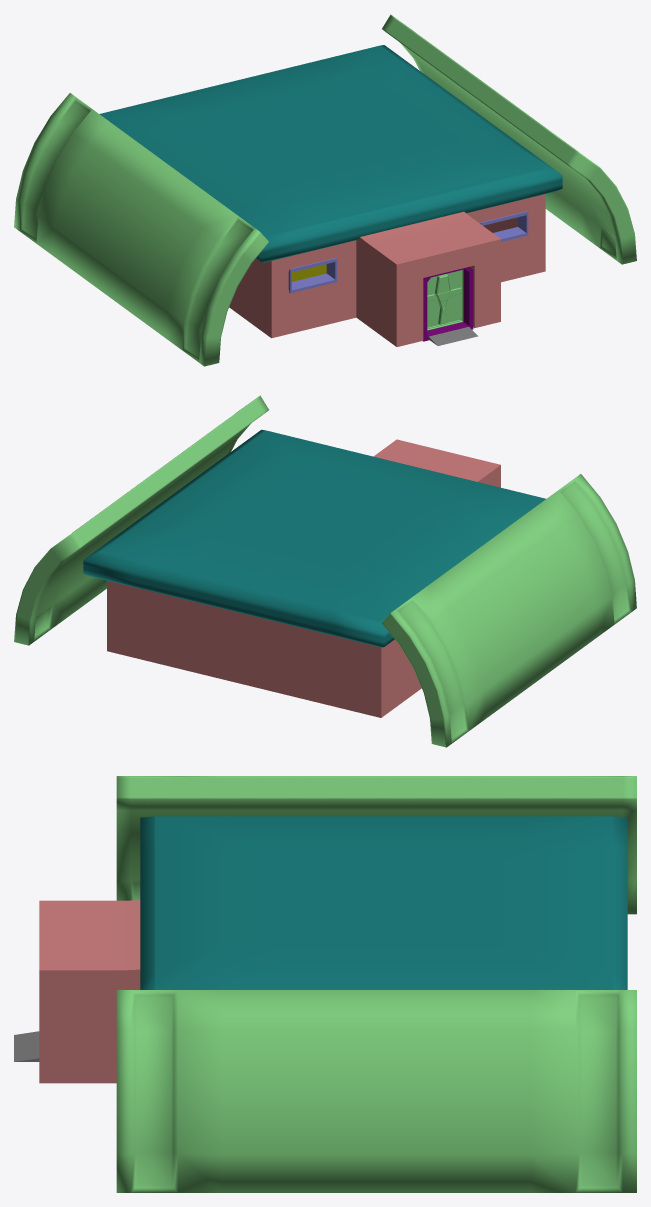
Rendered from sci-fi building 1.fbx.
The picture shows the model from 3 angles, top to bottom: view 1: azimuth 30°, elevation 25°; view 2: azimuth 150°, elevation 25°; view 3: azimuth 270°, elevation 25°; orthographic projection. The views are drawn at different scales.
Parts seen in each view (by area): view 1: roof, sides, walls, door, Frame, Doorway, ramp; view 2: roof, sides, walls; view 3: sides, roof, walls, ramp.
Part boxes in pixels (box(x1,y1,x2,y2)): roof: box(99, 45, 562, 262); sides: box(14, 14, 636, 366); walls: box(229, 194, 545, 346); door: box(427, 270, 463, 330); Frame: box(288, 211, 528, 293); Doorway: box(423, 266, 473, 341); ramp: box(428, 327, 477, 345); roof: box(83, 429, 545, 647); sides: box(14, 395, 636, 747); walls: box(107, 439, 500, 717); sides: box(116, 776, 636, 1192); roof: box(140, 816, 627, 989); walls: box(39, 900, 140, 1083); ramp: box(14, 1031, 39, 1061).
Size of the model in its own units: 722 by 195 by 658.
